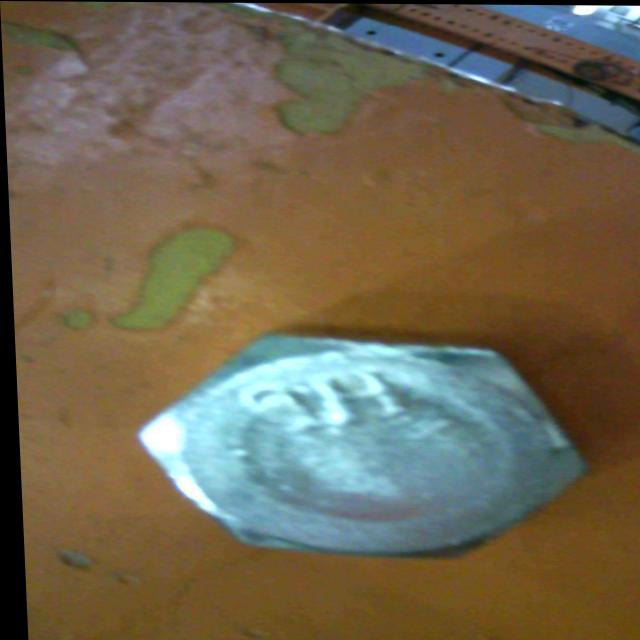Regular bolt: (126, 318, 590, 567)
